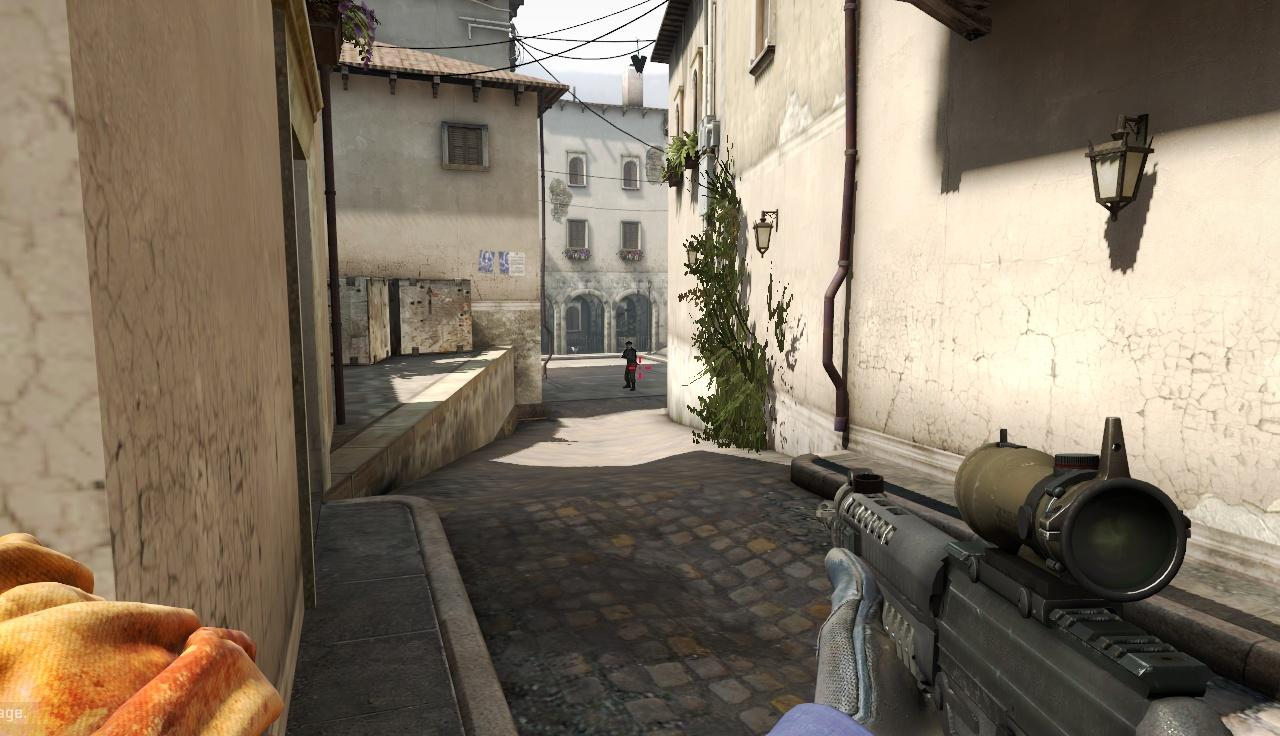rifle: (818, 425, 1248, 736)
tt: (621, 340, 637, 390)
tthead: (625, 341, 632, 350)
